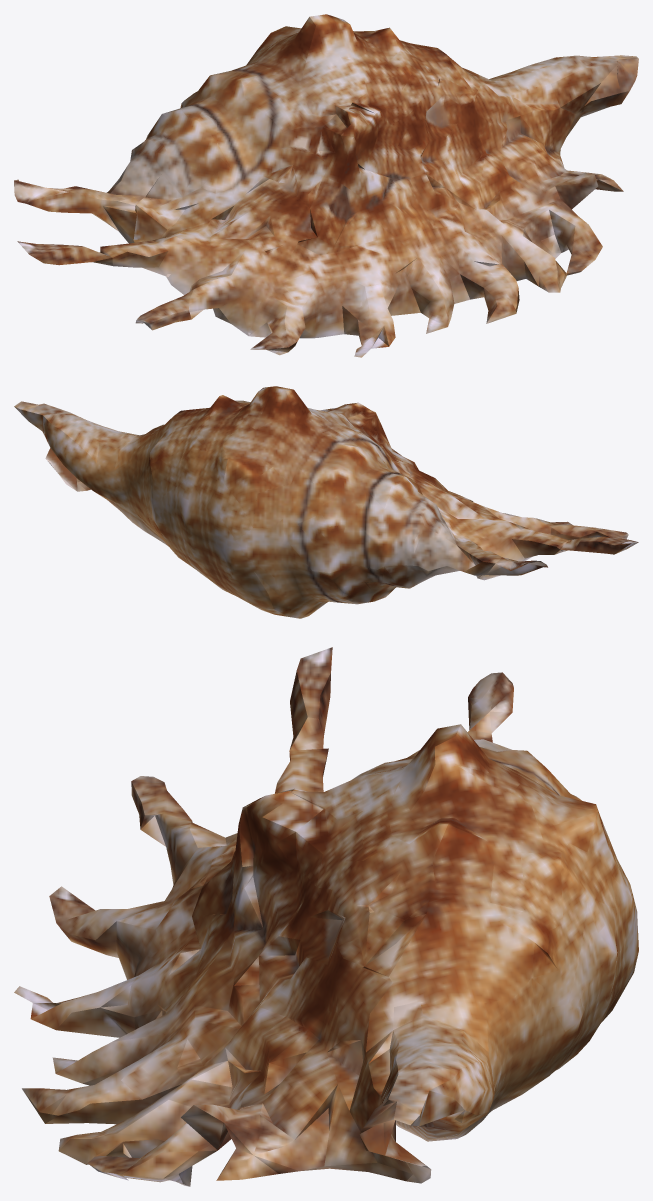
The model's file is shell_giant.glb.
The picture shows the model from 3 angles, top to bottom: view 1: azimuth 30°, elevation 25°; view 2: azimuth 150°, elevation 25°; view 3: azimuth 270°, elevation 25°; orthographic projection. The views are drawn at different scales.
Visible parts, largest first — view 1: mesh; view 2: mesh; view 3: mesh.
Boxes of the visible parts, x1,y1,x2,y2 form: mesh: [14, 14, 638, 357]; mesh: [14, 386, 638, 618]; mesh: [14, 647, 638, 1186].
Size of the model in its own units: 1.44 by 0.48 by 0.7699.
Materials: 1 (1 with a texture image).
